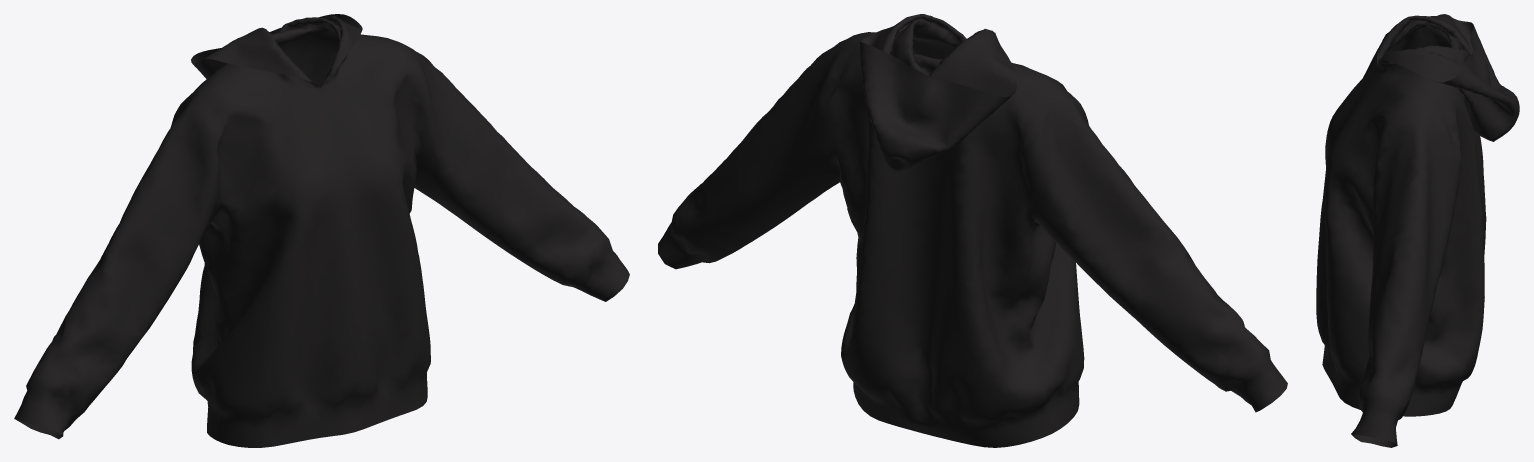
The model's file is tolstovka.gltf.
3 renders of one model, left to right at view 1: azimuth 30°, elevation 25°; view 2: azimuth 150°, elevation 25°; view 3: azimuth 270°, elevation 25°, orthographic. The views are drawn at different scales.
Parts seen in each view (by area): view 1: tolstovka; view 2: tolstovka; view 3: tolstovka.
Boxes of the visible parts, left/top/right/bottom form: tolstovka: left=14, top=14, right=629, bottom=447; tolstovka: left=658, top=14, right=1287, bottom=447; tolstovka: left=1316, top=14, right=1519, bottom=447.
Bounding box in the file's own units: 6.66 × 4.07 × 2.11.
Materials: 1 (1 with a texture image).
